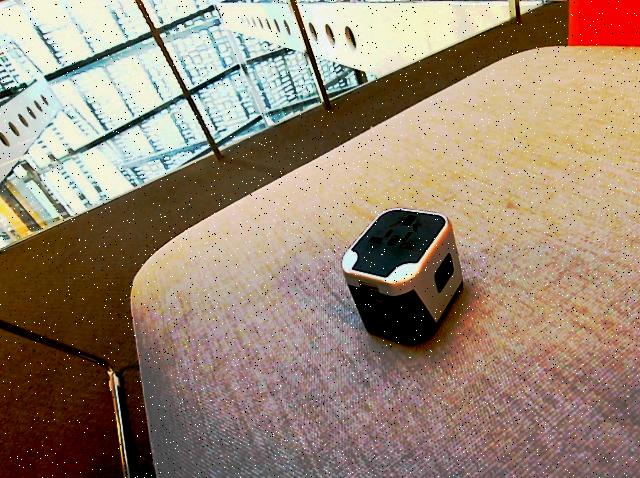adapter: (341, 206, 463, 346)
